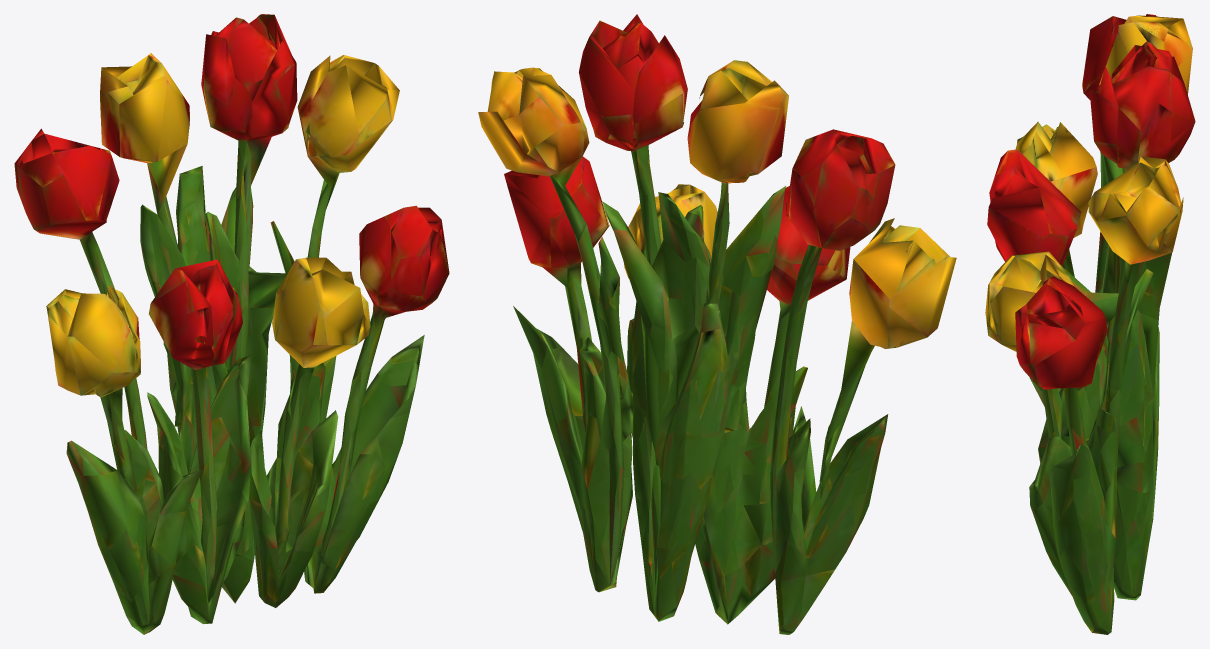
File: getkong-blume3.glb
The picture shows the model from 3 angles, left to right: view 1: azimuth 30°, elevation 25°; view 2: azimuth 150°, elevation 25°; view 3: azimuth 270°, elevation 25°; orthographic projection. The views are drawn at different scales.
Parts seen in each view (by area): view 1: output_unwrapped; view 2: output_unwrapped; view 3: output_unwrapped.
Boxes of the visible parts, left/top/right/bottom form: output_unwrapped: left=14, top=14, right=449, bottom=634; output_unwrapped: left=478, top=14, right=956, bottom=634; output_unwrapped: left=985, top=14, right=1195, bottom=634.
Bounding box in the file's own units: 1.42 × 1.92 × 0.6463.
Materials: 1 (1 with a texture image).
